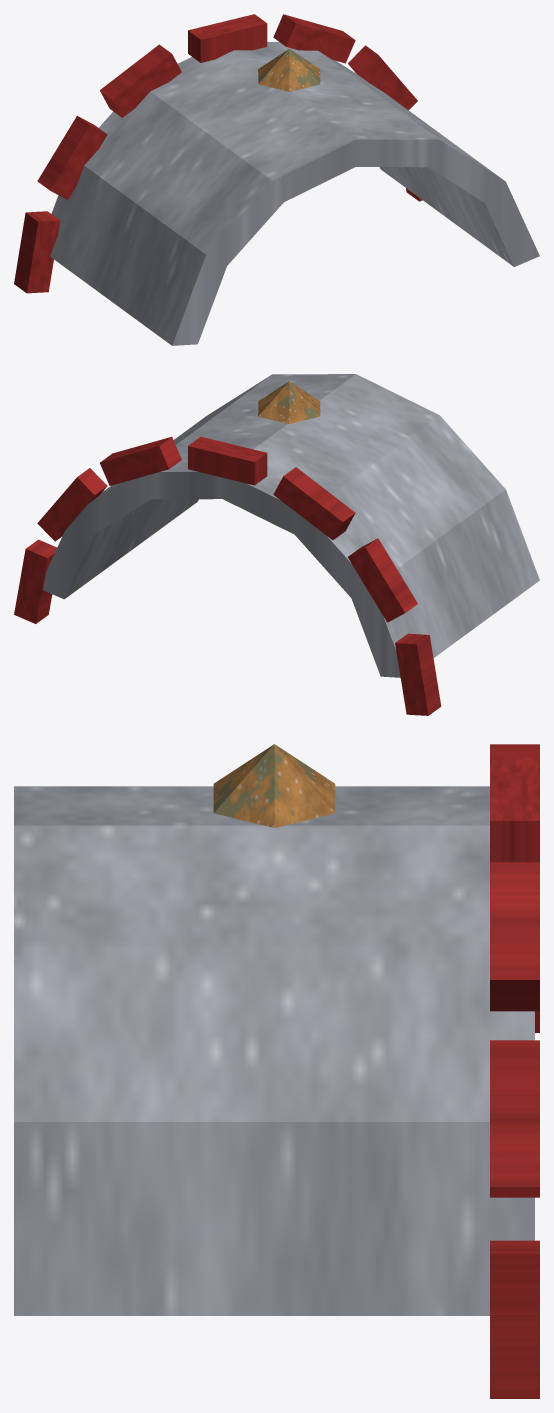
The model's file is rival_brannoch_pauldron.obj.
The picture shows the model from 3 angles, top to bottom: view 1: azimuth 30°, elevation 25°; view 2: azimuth 150°, elevation 25°; view 3: azimuth 270°, elevation 25°; orthographic projection. The views are drawn at different scales.
Parts seen in each view (by area): view 1: rival_brannoch_pauldron; view 2: rival_brannoch_pauldron; view 3: rival_brannoch_pauldron.
Part boxes in pixels (box(x1,y1,x2,y2)): rival_brannoch_pauldron: box(14, 14, 539, 345); rival_brannoch_pauldron: box(14, 374, 539, 715); rival_brannoch_pauldron: box(14, 744, 539, 1398).
Bounding box in the file's own units: 0.5826 × 0.3204 × 0.3281.
